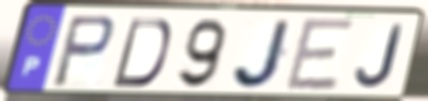9: (174, 18, 230, 90)
D: (109, 16, 174, 90)
E: (282, 16, 358, 95)
J: (230, 18, 296, 92), (353, 23, 407, 91)
P: (49, 13, 117, 90)
